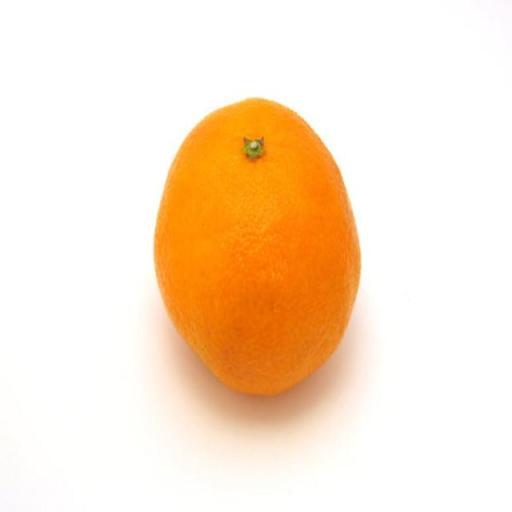fruit: (155, 99, 359, 394)
